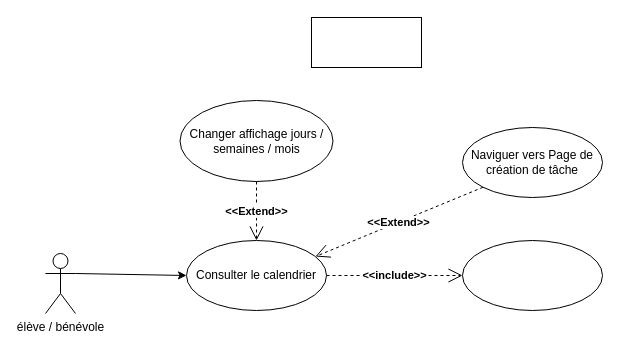
Some shapes in this 620 by 352 pixel diagram are drawn without their labels. Here are the shapes that lost their labels. From the top down, the box of each, then its label:
(310, 16, 422, 68): La page calendrier
(462, 240, 602, 310): consulter les évènements et RDV
